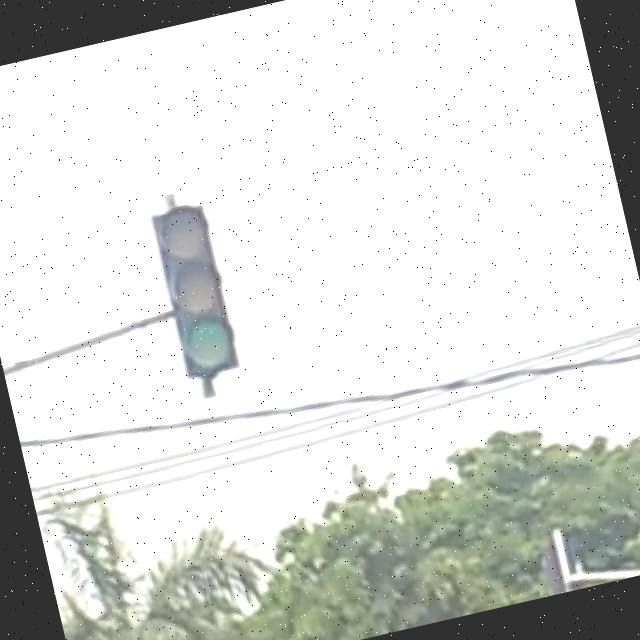green_light: (148, 200, 244, 383)
